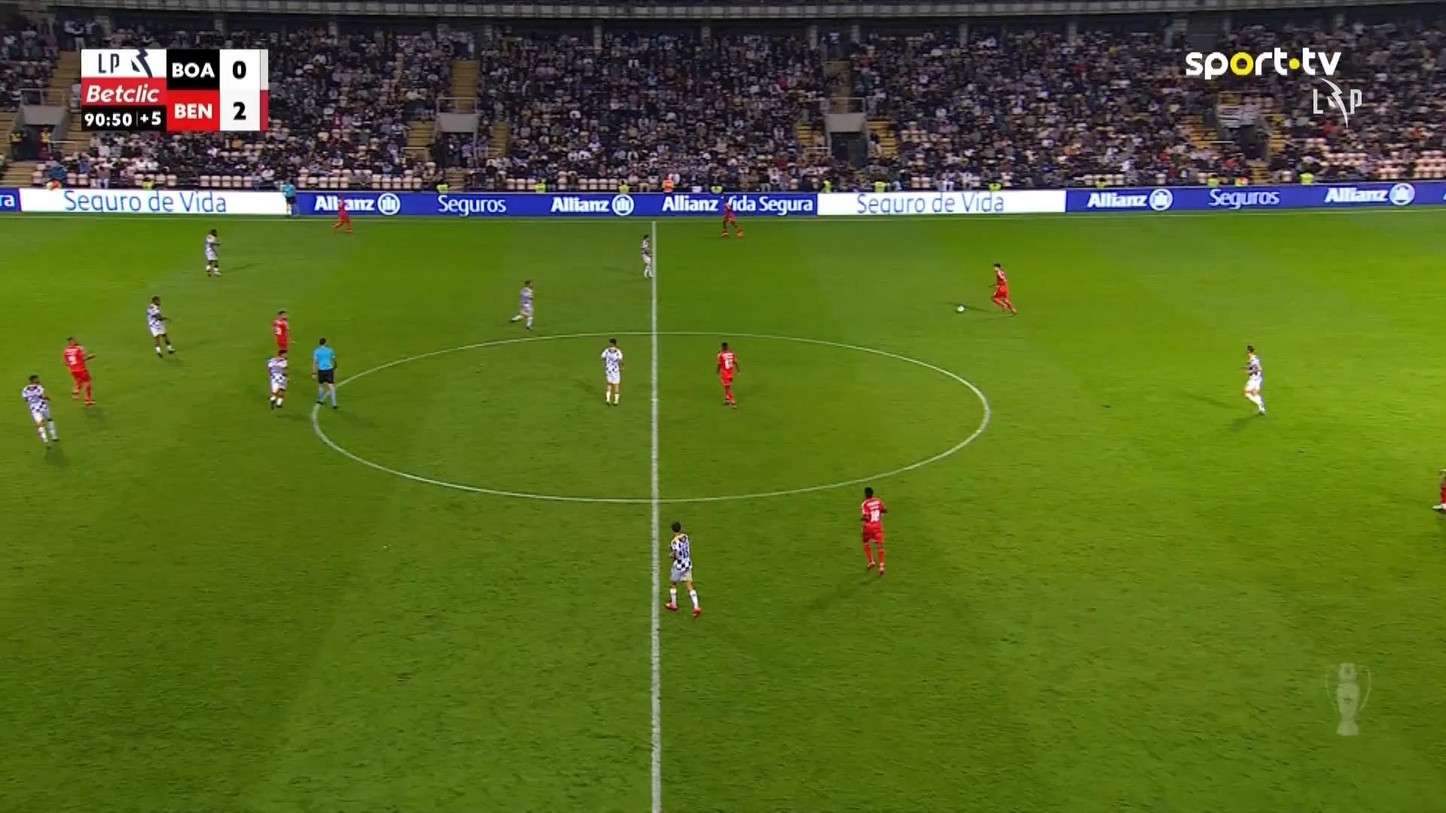ball: (956, 304, 964, 312)
player: (664, 520, 702, 618), (20, 373, 59, 446), (859, 486, 887, 576), (63, 336, 96, 406), (145, 295, 175, 358), (1242, 344, 1266, 415), (599, 337, 624, 405), (715, 341, 740, 407), (989, 262, 1017, 315), (266, 348, 289, 409), (510, 279, 535, 330), (719, 197, 744, 238), (271, 309, 291, 357), (203, 227, 222, 276), (331, 198, 352, 233), (639, 233, 653, 279), (1431, 467, 1445, 511)
referee: (310, 336, 338, 408), (280, 176, 298, 216)
